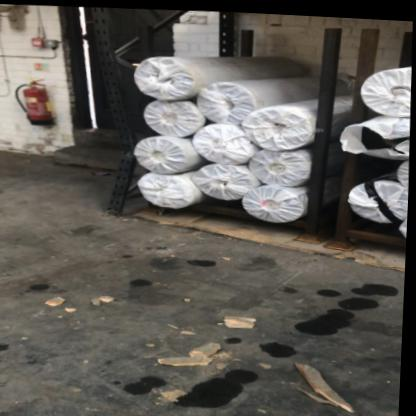vertical_damage: (98, 93, 147, 181)
